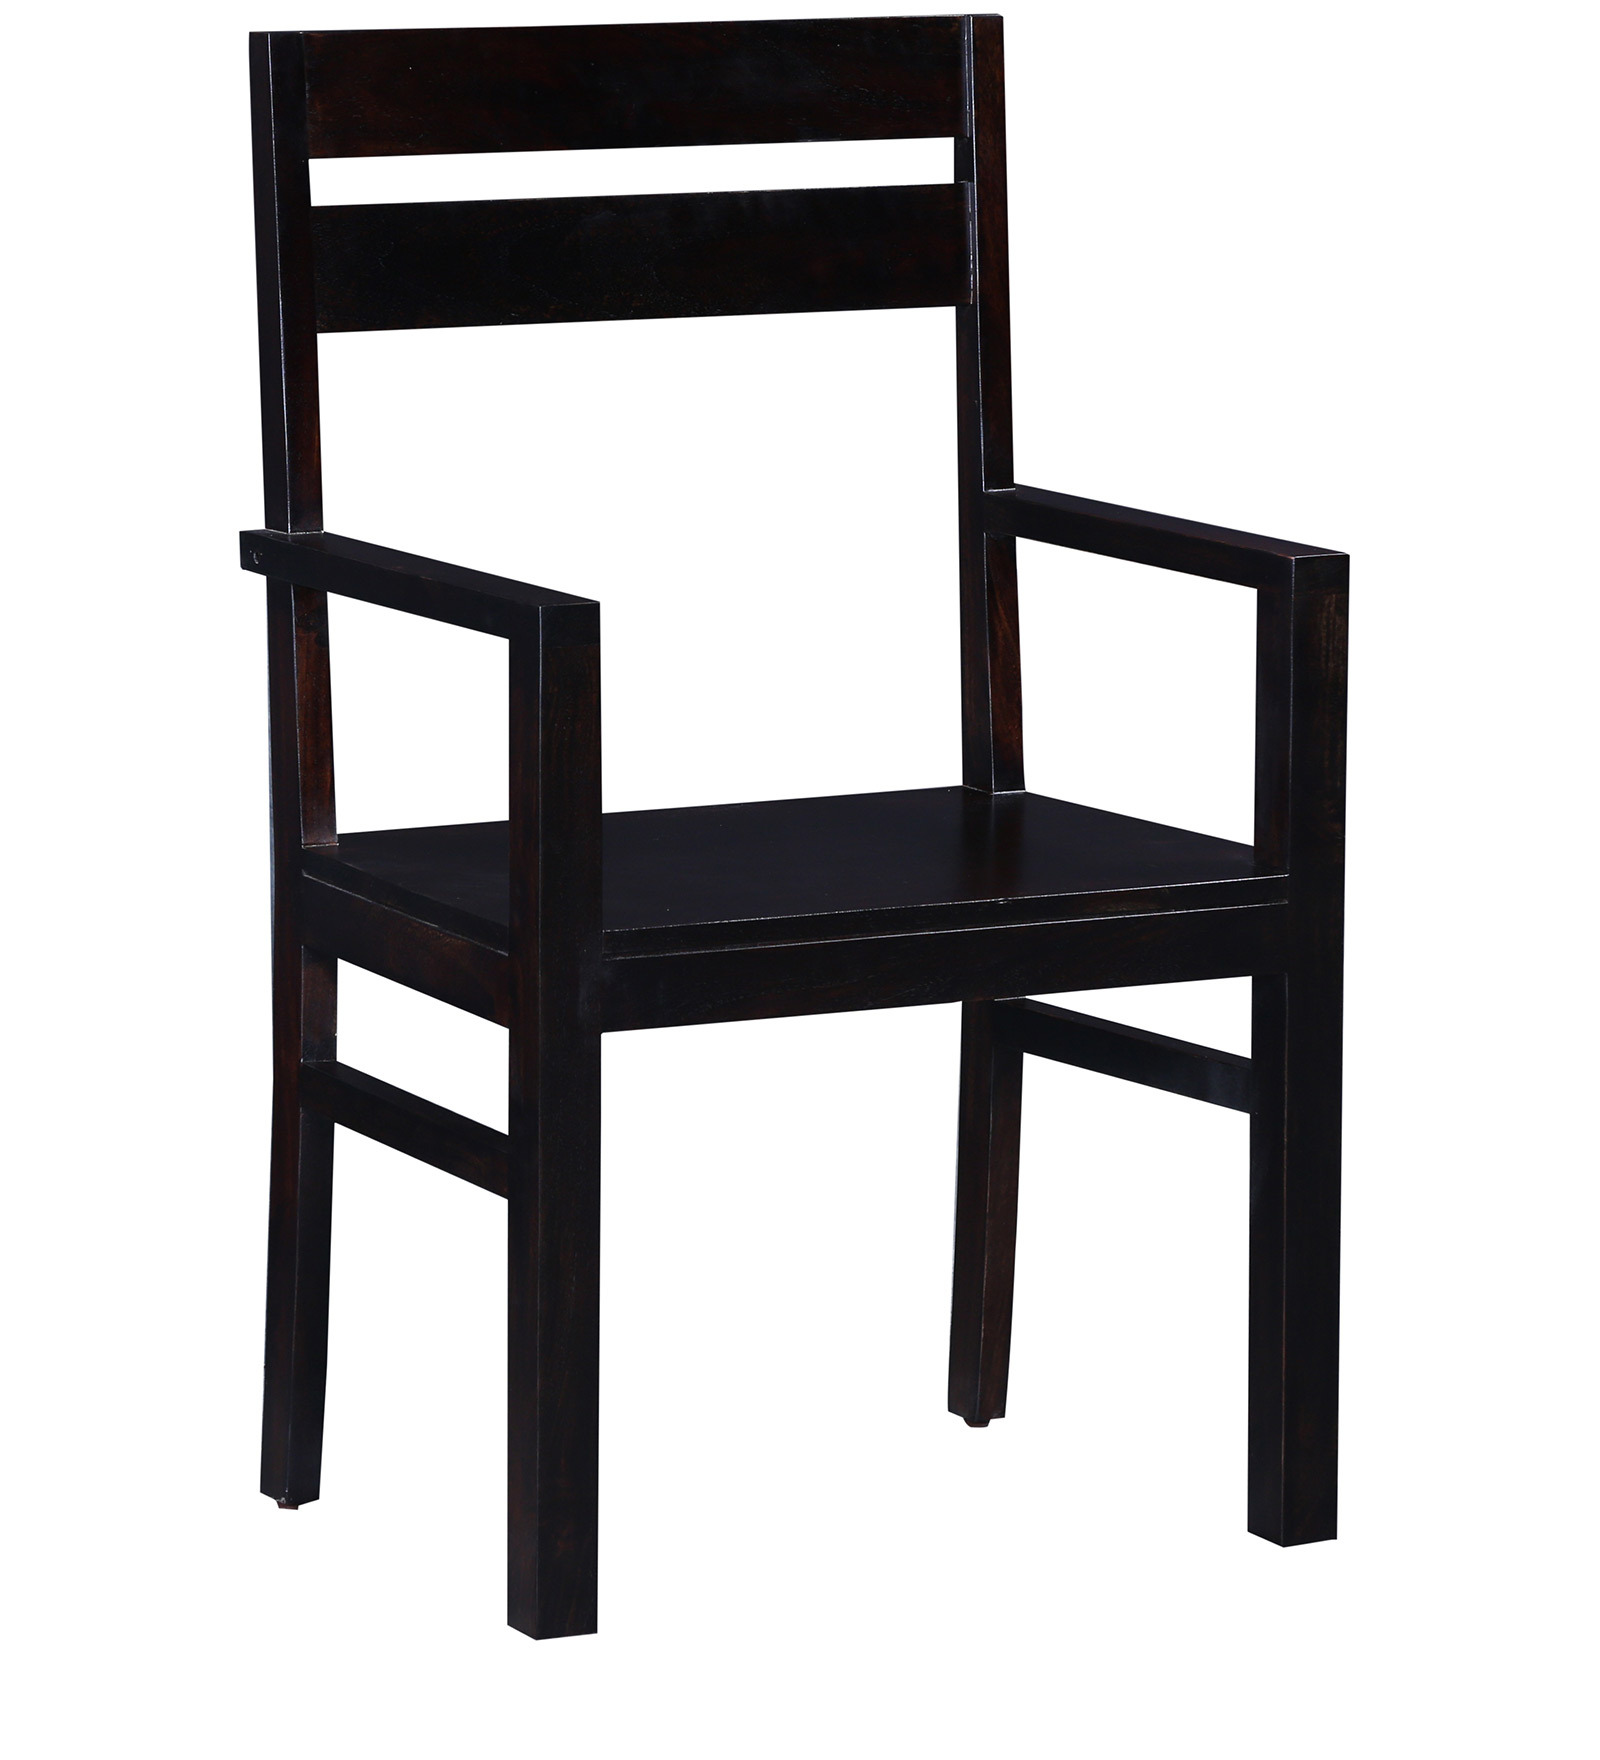Enkel Arm Chair in Warm Chestnut Finish by Woodsworth: (201, 15, 1405, 1663)
